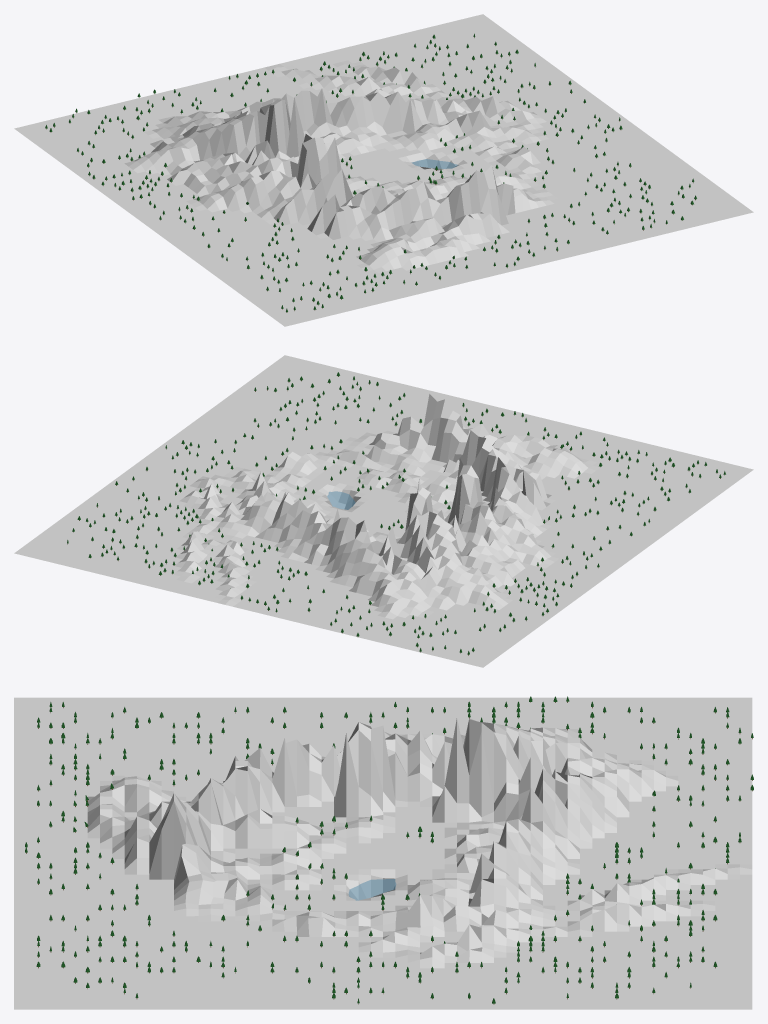
File: Mountains.fbx
3 views of the same model, one above another, from view 1: azimuth 30°, elevation 25°; view 2: azimuth 150°, elevation 25°; view 3: azimuth 270°, elevation 25° (orthographic). The views are drawn at different scales.
Parts seen in each view (by area): view 1: Terrain, Tannen; view 2: Terrain, Tannen; view 3: Terrain, Tannen, Wasser.
Part boxes in pixels (x1,y1,x2,y2): Terrain: [14, 14, 753, 326]; Tannen: [45, 33, 696, 312]; Terrain: [14, 355, 753, 667]; Tannen: [67, 372, 725, 655]; Terrain: [14, 697, 752, 1009]; Tannen: [25, 696, 753, 1004]; Wasser: [349, 879, 395, 900].
Bounding box in the file's own units: 5000 × 970 × 5012.
